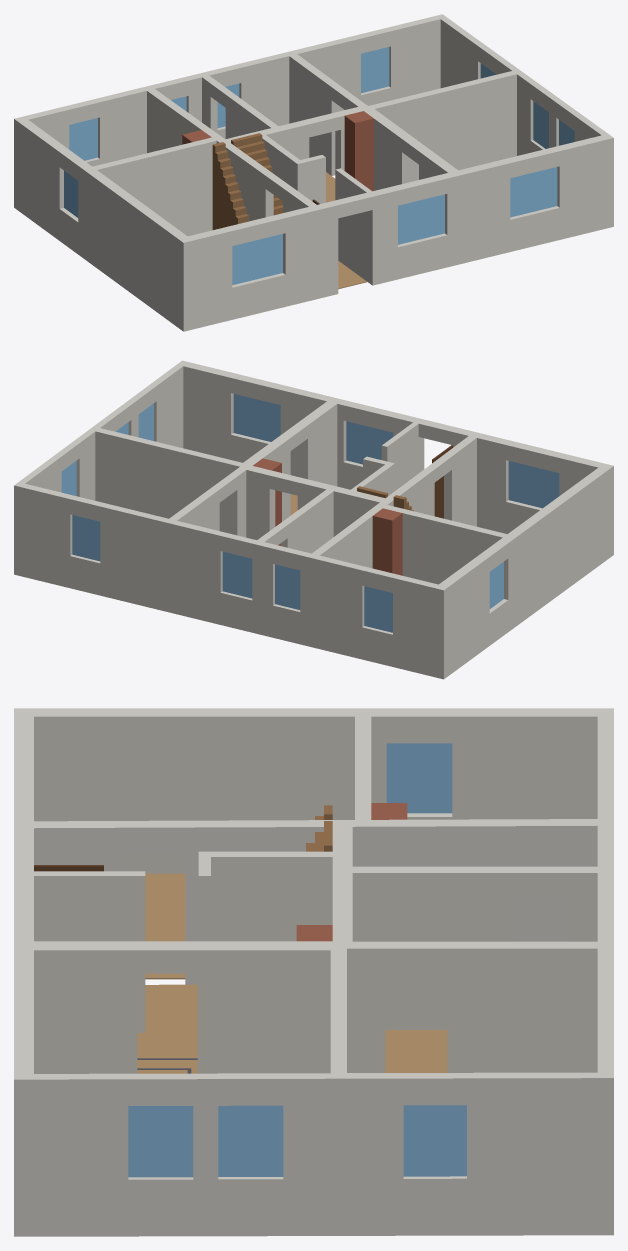
The picture shows the model from 3 angles, top to bottom: view 1: azimuth 30°, elevation 25°; view 2: azimuth 150°, elevation 25°; view 3: azimuth 270°, elevation 25°; orthographic projection. The views are drawn at different scales.
Visible parts, largest first — view 1: Waende, Fenster, Treppe, Schornsteine, Boden; view 2: Waende, Fenster, Schornsteine, Haustuer; view 3: Waende, Fenster, Boden, Schornsteine, Treppe.
Boxes of the visible parts, box(x1,y1,x2,y2) form: Waende: box(14, 14, 613, 331); Fenster: box(64, 47, 574, 285); Treppe: box(212, 133, 283, 229); Schornsteine: box(182, 111, 373, 191); Boden: box(326, 172, 366, 289); Waende: box(14, 360, 613, 679); Fenster: box(61, 394, 559, 632); Schornsteine: box(253, 458, 402, 575); Haustuer: box(432, 445, 453, 518); Waende: box(14, 708, 613, 1236); Fenster: box(128, 743, 466, 1177); Boden: box(137, 873, 447, 1073); Schornsteine: box(296, 803, 407, 941); Treppe: box(306, 805, 332, 851).
Size of the model in its own units: 11.91 by 2.46 by 8.13.
